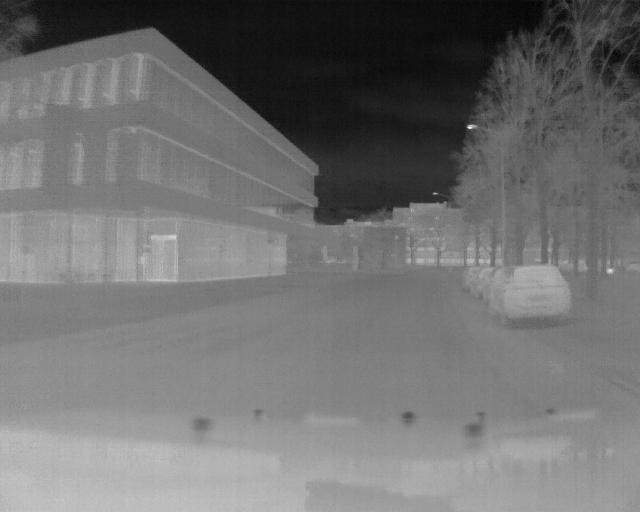car: (493, 265, 575, 329)
